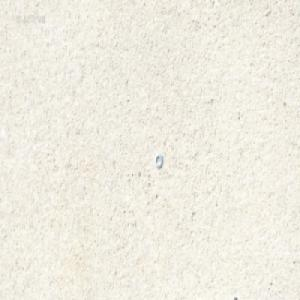Washer: (155, 153, 162, 168)
